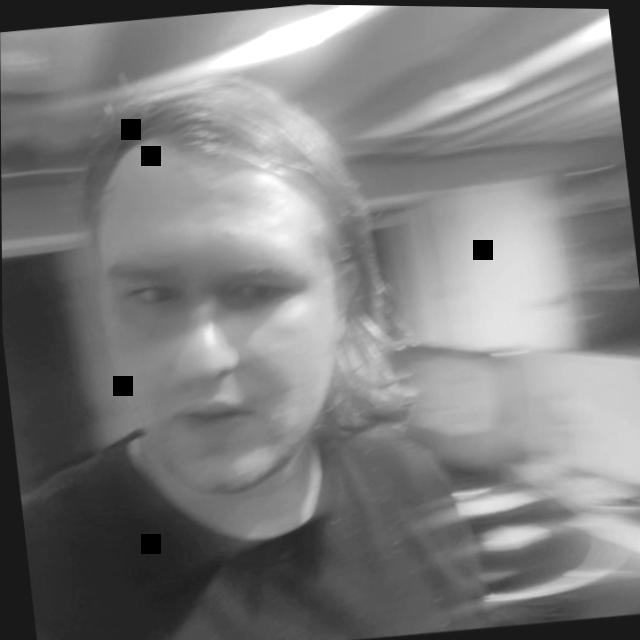NO-Mask: (40, 28, 461, 574)
